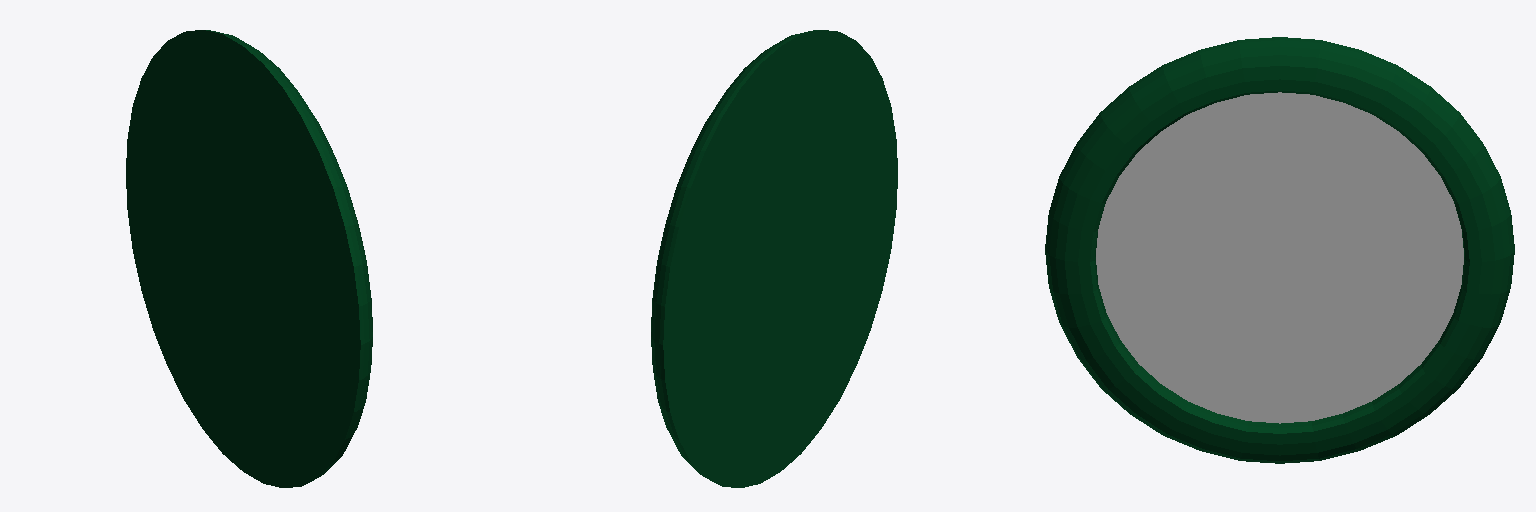
File: clock.obj
3 views of the same model, side by side, from view 1: azimuth 30°, elevation 25°; view 2: azimuth 150°, elevation 25°; view 3: azimuth 270°, elevation 25° (orthographic).
Parts seen in each view (by area): view 1: Clock_Cylinder.002; view 2: Clock_Cylinder.002; view 3: Clock_Cylinder.002.
Boxes of the visible parts, x1,y1,x2,y2 form: Clock_Cylinder.002: [126, 30, 372, 487]; Clock_Cylinder.002: [651, 30, 897, 487]; Clock_Cylinder.002: [1045, 37, 1514, 463].
Bounding box in the file's own units: 0.1061 × 1.69 × 1.69.